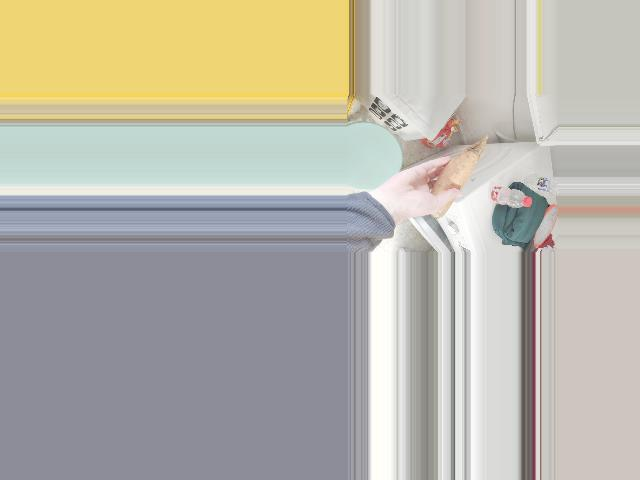sweet_potato: (422, 163, 467, 215)
